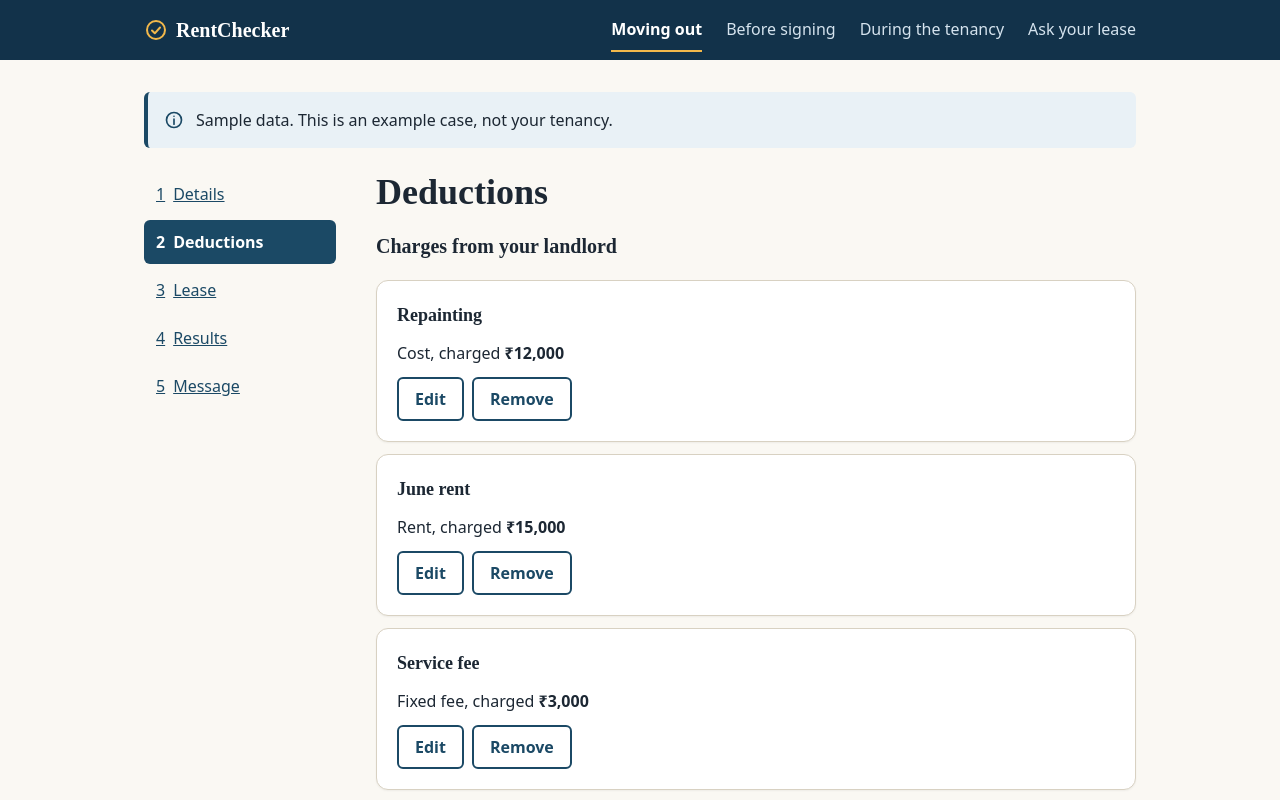
Test case: Lease step › T-166 changing one label resets only that deduction
Click the button with aria-label "Edit Repainting" at coordinates (430, 399), box x1=397 y1=377 x2=464 y2=421
(page scrolled)
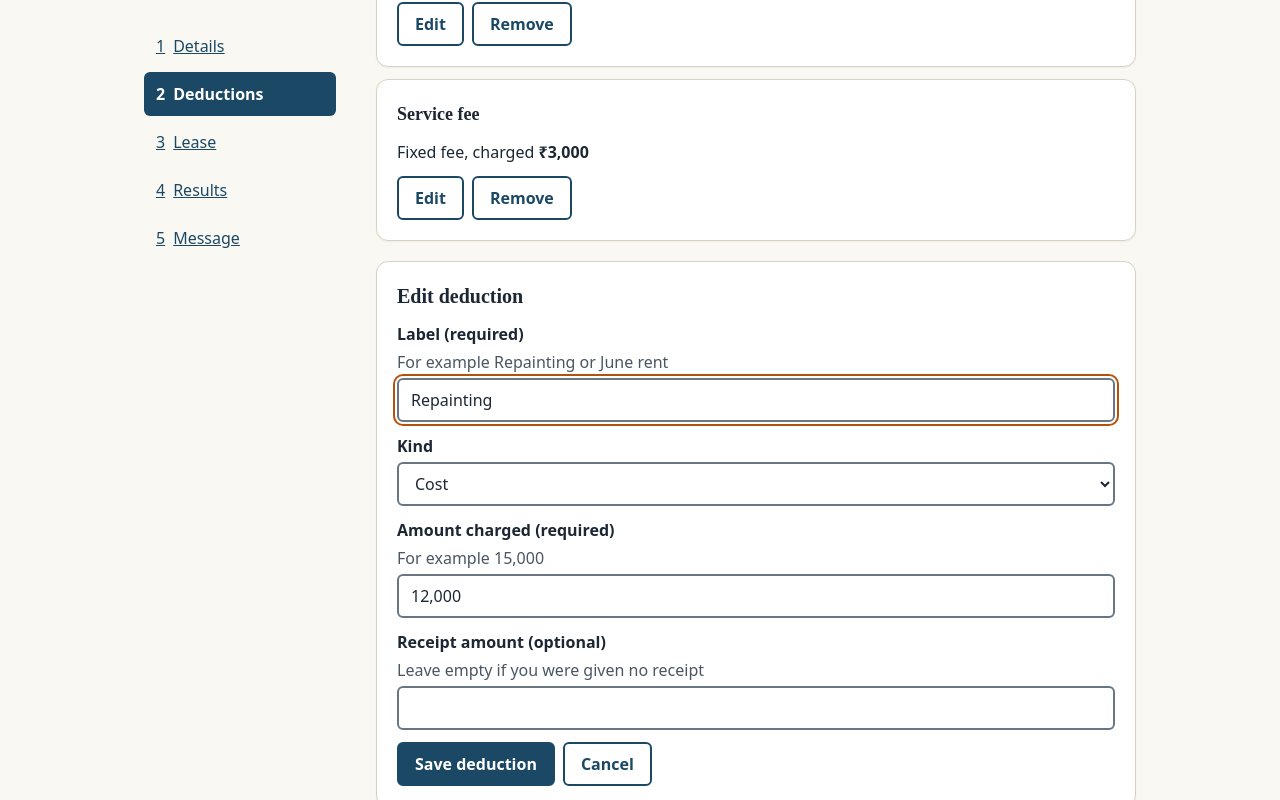
Replace the text in the field labelled "Label (required)" with "Wall painting" at coordinates (756, 400), box x1=397 y1=378 x2=1115 y2=422
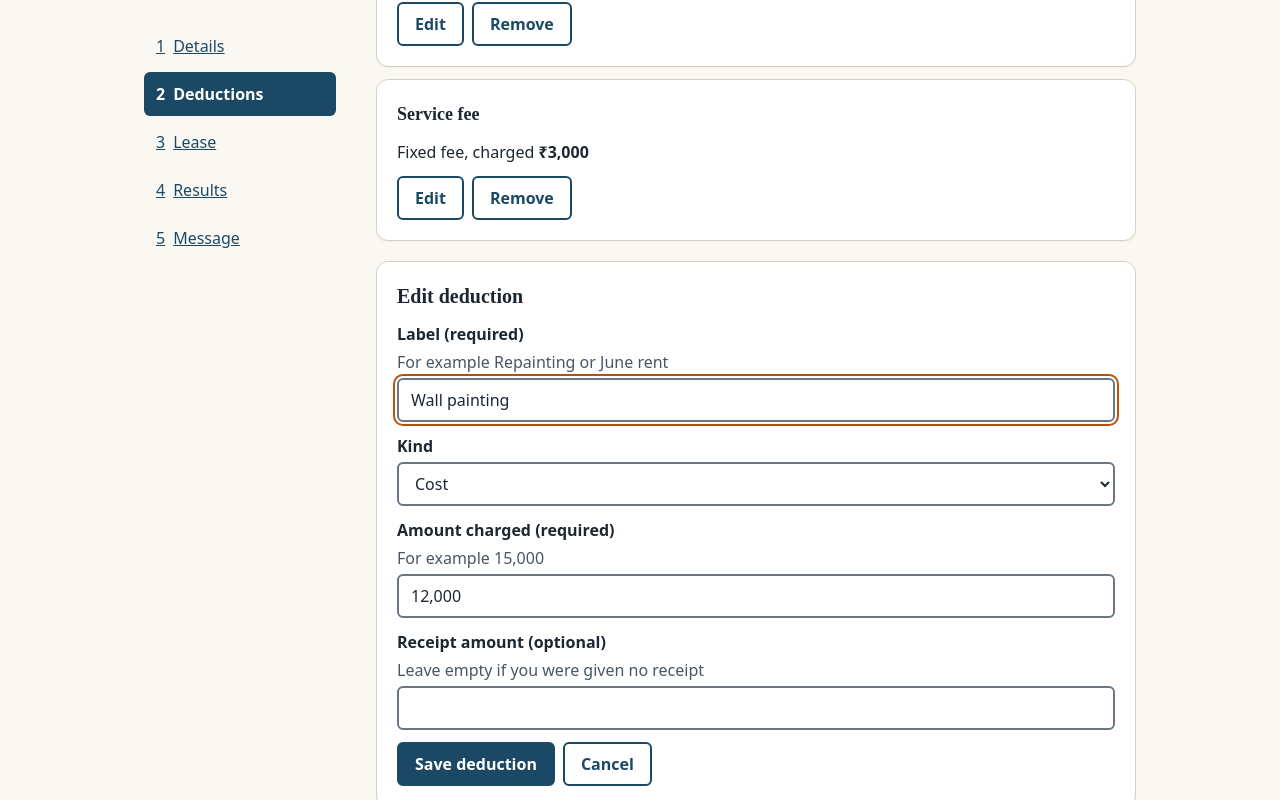
Click the button "Save deduction" at coordinates (476, 764), box x1=397 y1=742 x2=555 y2=786
(page scrolled)
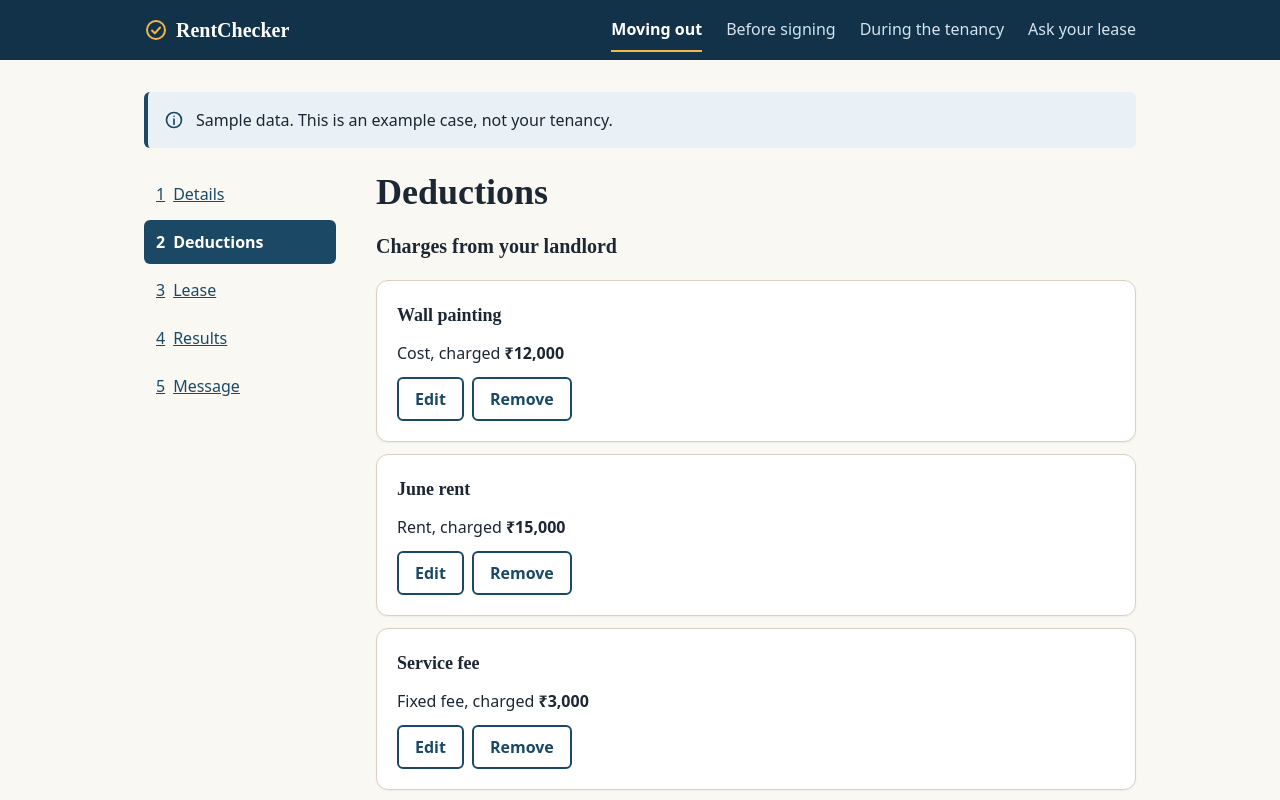
Click the link "3 Lease" at coordinates (186, 290), box x1=156 y1=279 x2=216 y2=301
(page scrolled)
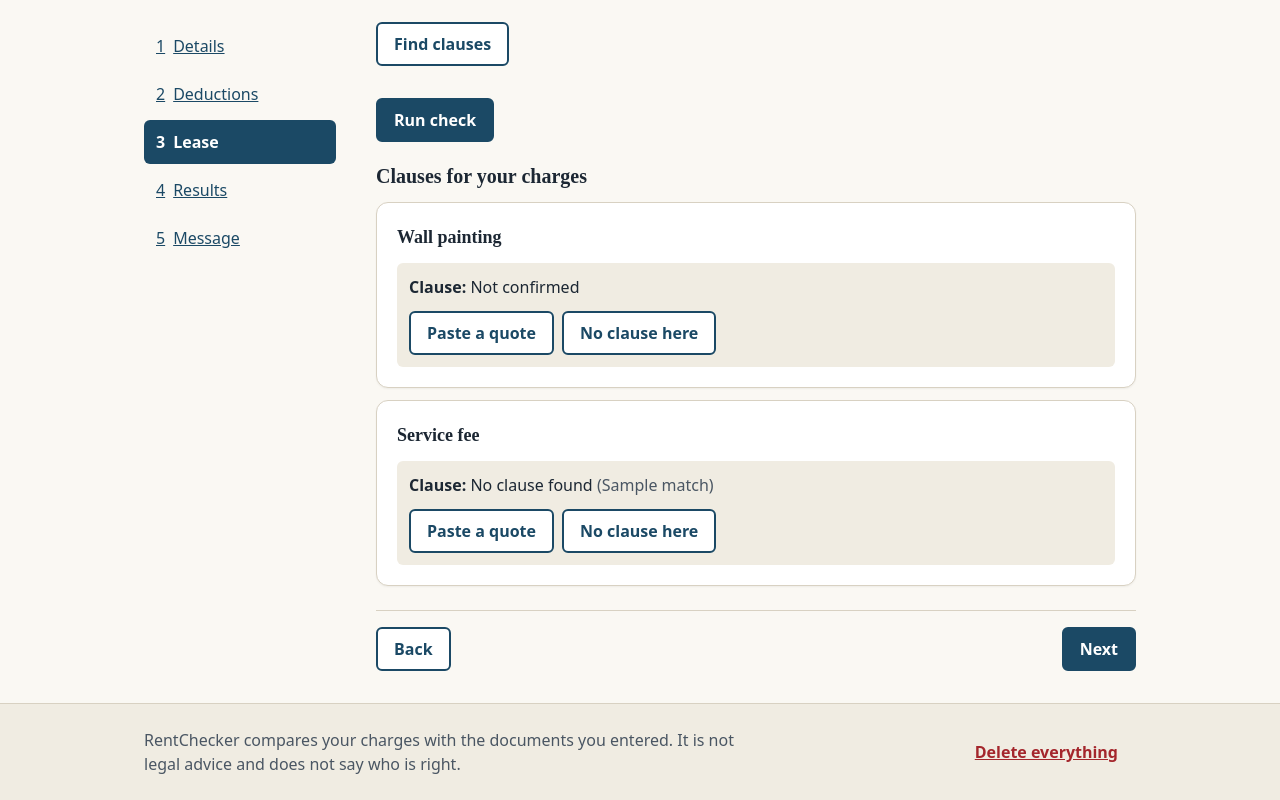
Now the text "Clause: Not confirmed" is shown, box x1=409 y1=276 x2=580 y2=298
Now the text "Clause: No clause found (Sample match)" is shown, box x1=409 y1=474 x2=714 y2=496
